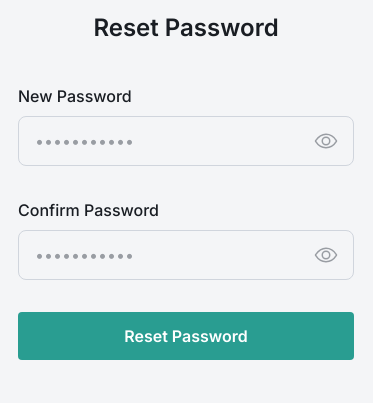
Test: ResetPassword › shows a confirmation error when passwords do not match
The image size is (373, 403).
Type "1234" into the password field labelled "New Password".
click(186, 141); type("1234")  # box [18,116,354,166]
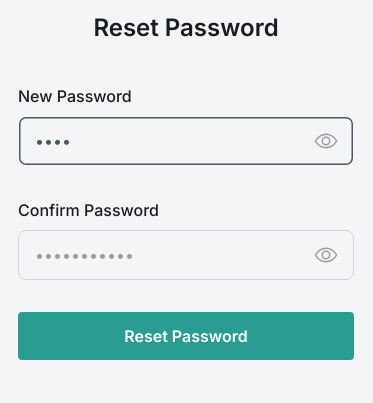
Type "12345" into the password field labelled "Confirm Password".
click(186, 255); type("12345")  # box [18,230,354,280]
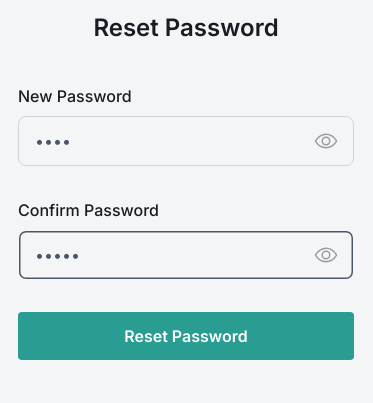
Click the button "Reset Password".
click(186, 336)  # box [18,312,354,360]
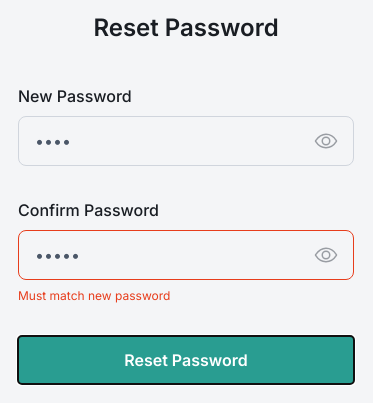
Expected: the text "Must match new password" is shown, [18,288,170,303]
